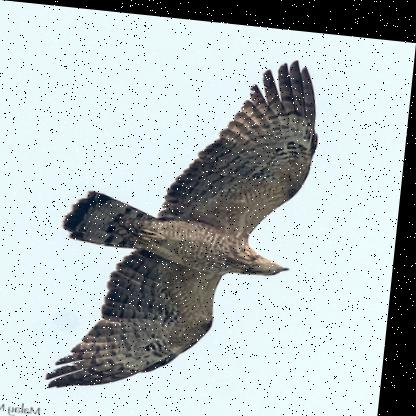Burung: (33, 33, 331, 408)
